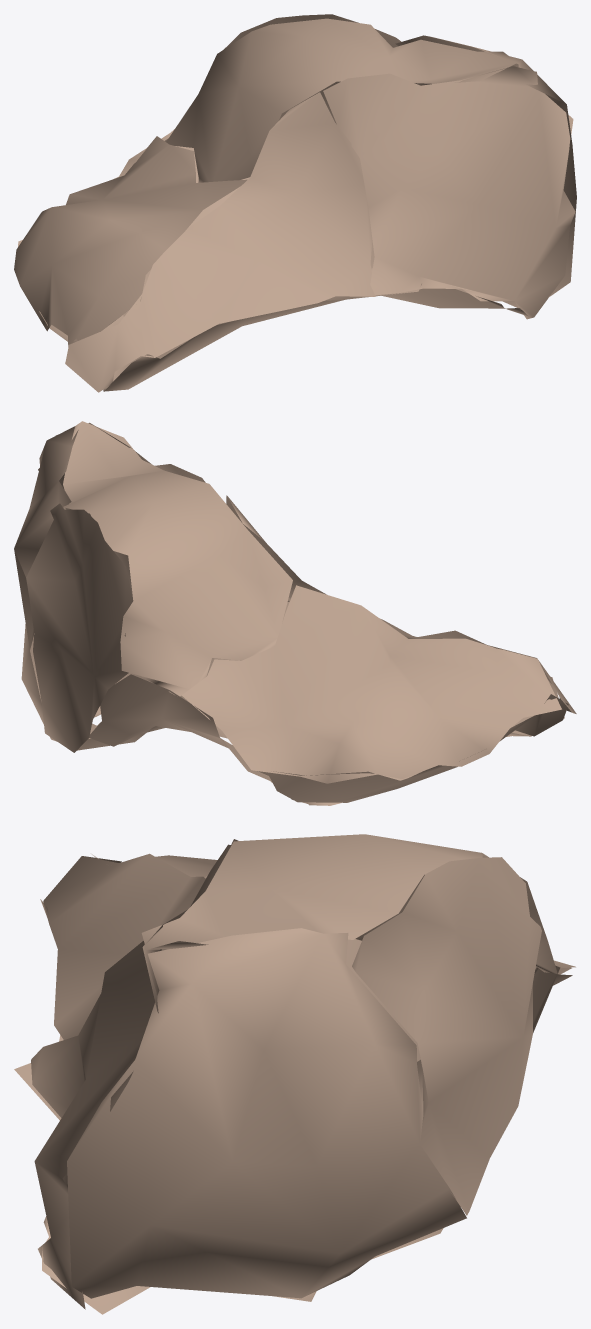
File: rock-round-lod1.glb
The picture shows the model from 3 angles, top to bottom: view 1: azimuth 30°, elevation 25°; view 2: azimuth 150°, elevation 25°; view 3: azimuth 270°, elevation 25°; orthographic projection. The views are drawn at different scales.
Visible parts, largest first — view 1: rock-round.001; view 2: rock-round.001; view 3: rock-round.001.
Part boxes in pixels (left/top/right/bottom): rock-round.001: left=14, top=14, right=576, bottom=392; rock-round.001: left=14, top=421, right=576, bottom=805; rock-round.001: left=14, top=834, right=575, bottom=1314.
Size of the model in its own units: 1.84 by 0.909 by 1.15.
